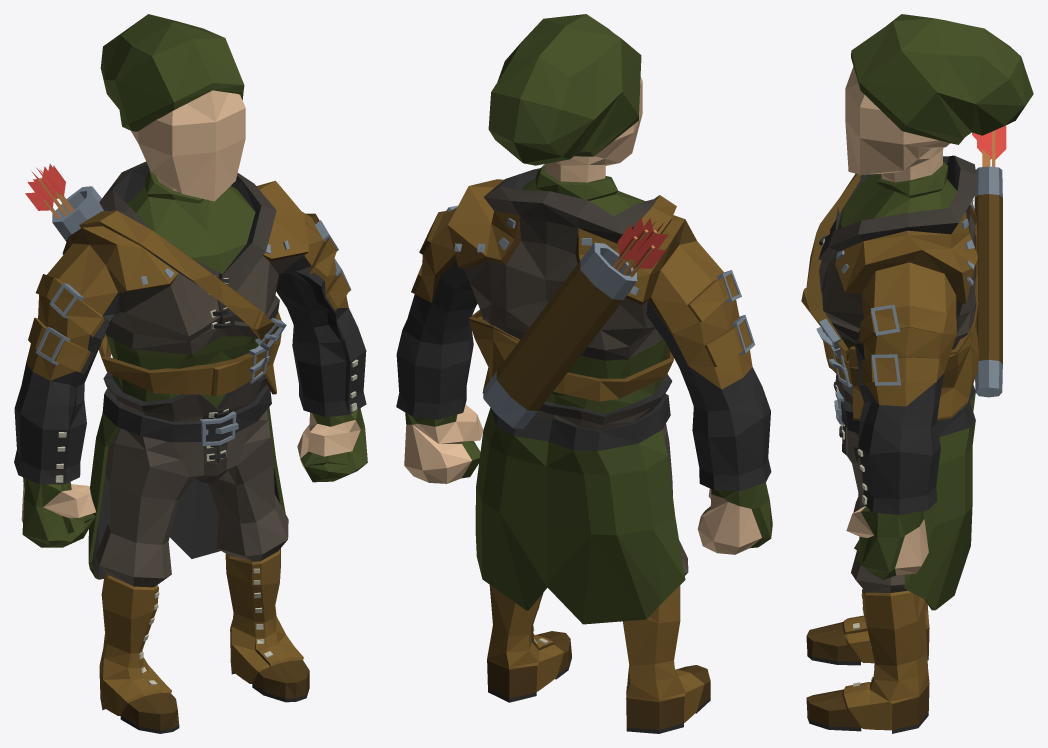
File: ARMOR_NobleArcher.fbx
3 renders of one model, left to right at view 1: azimuth 30°, elevation 25°; view 2: azimuth 150°, elevation 25°; view 3: azimuth 270°, elevation 25°, orthographic. The views are drawn at different scales.
Visible parts, largest first — view 1: ARMOR_NobleArcher_05tri:noble_archer, ARMOR_NobleArcher_05tri:noble_archer_skin; view 2: ARMOR_NobleArcher_05tri:noble_archer, ARMOR_NobleArcher_05tri:noble_archer_skin; view 3: ARMOR_NobleArcher_05tri:noble_archer, ARMOR_NobleArcher_05tri:noble_archer_skin.
Part boxes in pixels (<box>): ARMOR_NobleArcher_05tri:noble_archer: <box>14,14,367,733</box>; ARMOR_NobleArcher_05tri:noble_archer_skin: <box>21,90,360,522</box>; ARMOR_NobleArcher_05tri:noble_archer: <box>396,14,772,733</box>; ARMOR_NobleArcher_05tri:noble_archer_skin: <box>404,77,761,554</box>; ARMOR_NobleArcher_05tri:noble_archer: <box>801,14,1033,733</box>; ARMOR_NobleArcher_05tri:noble_archer_skin: <box>845,66,949,575</box>.
Size of the model in its own units: 501 by 906 by 285.
